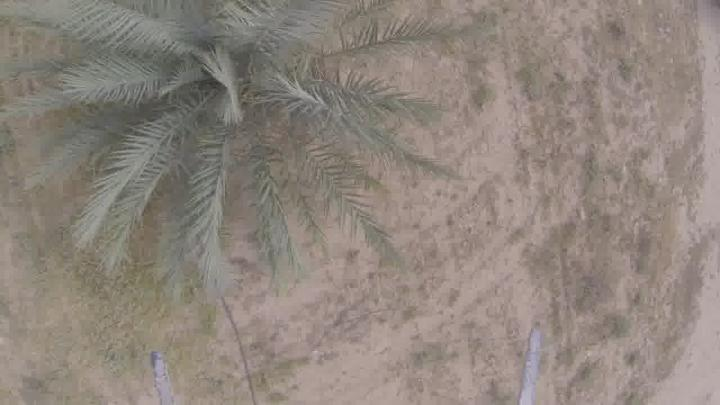Date-Palm-Crown: (120, 1, 340, 182)
